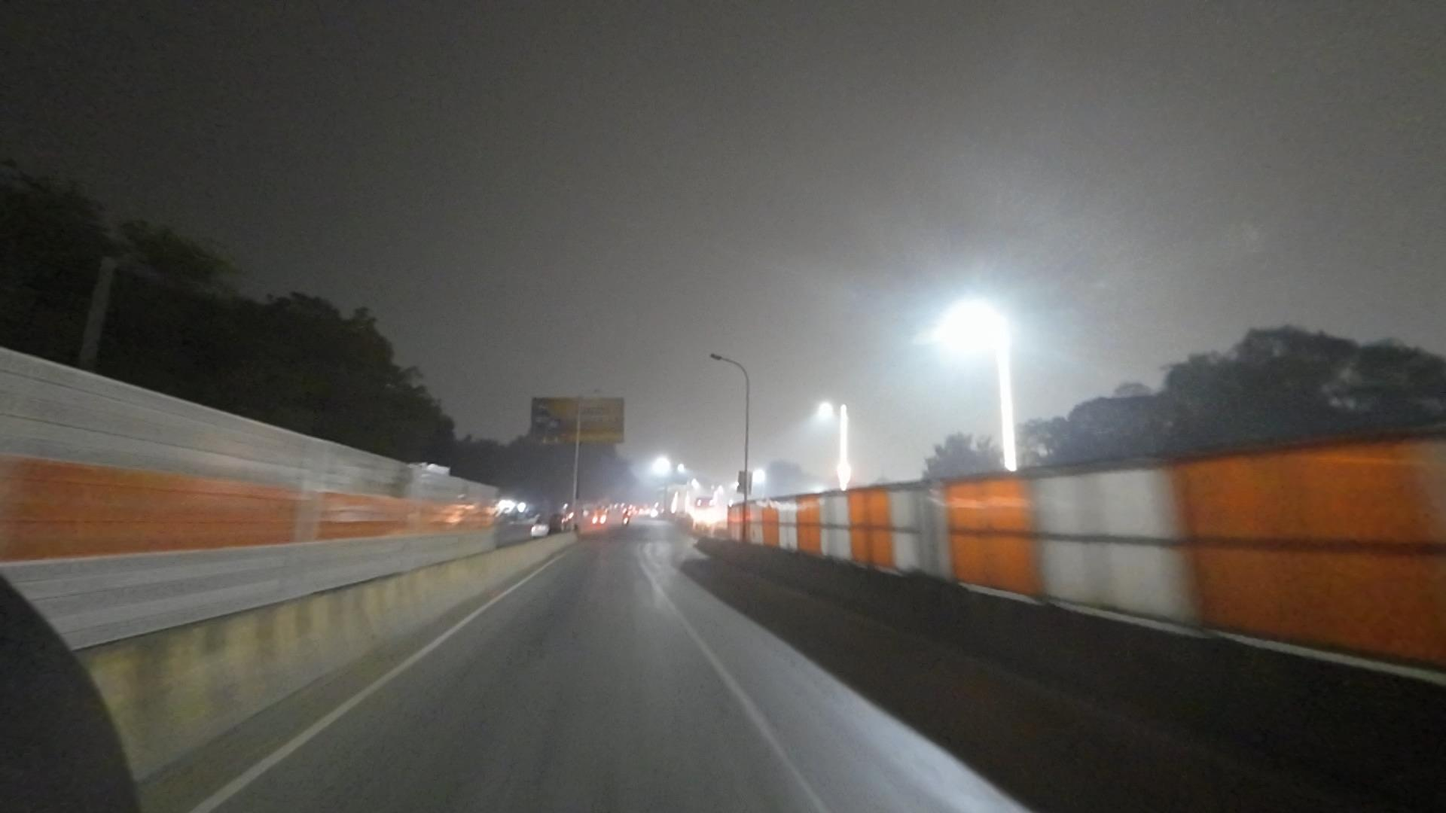streetlight: (708, 350, 742, 365), (583, 386, 605, 398)
